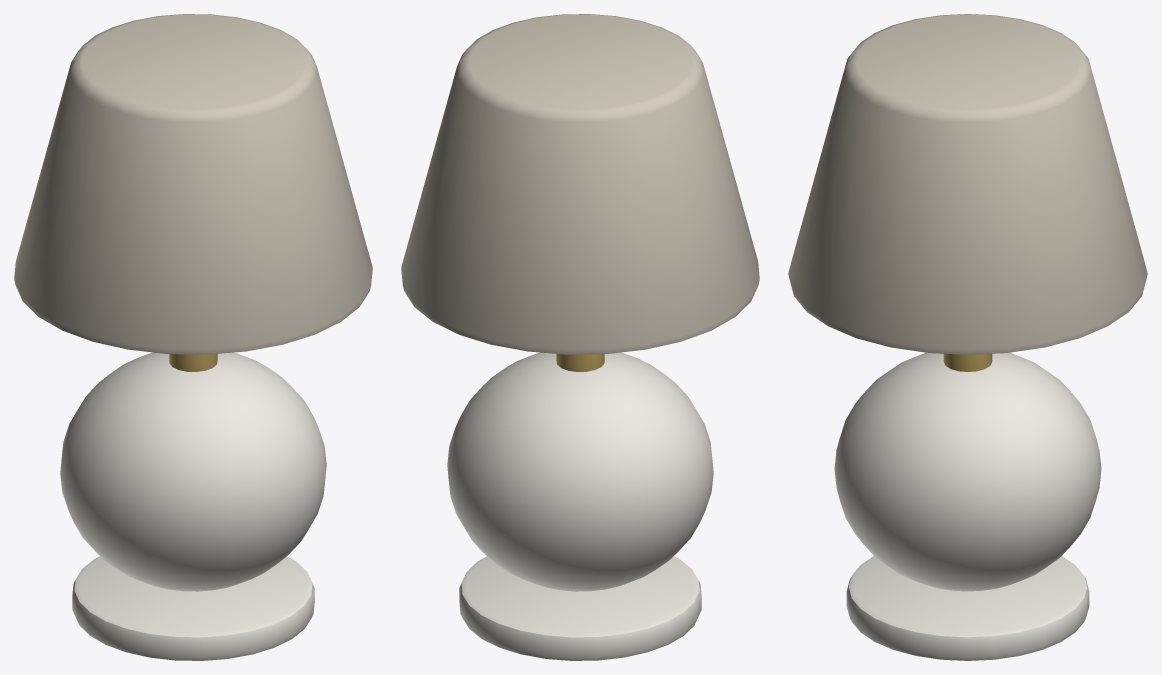
File: table_lamp.glb
The picture shows the model from 3 angles, left to right: view 1: azimuth 30°, elevation 25°; view 2: azimuth 150°, elevation 25°; view 3: azimuth 270°, elevation 25°; orthographic projection.
Visible parts, largest first — view 1: shade, belly, base, neck; view 2: shade, belly, base, neck; view 3: shade, belly, base, neck.
Boxes of the visible parts, left/top/right/bottom form: shade: left=14, top=14, right=372, bottom=354; belly: left=60, top=352, right=326, bottom=591; base: left=72, top=556, right=314, bottom=660; neck: left=169, top=354, right=217, bottom=371; shade: left=401, top=14, right=759, bottom=354; belly: left=447, top=352, right=713, bottom=591; base: left=459, top=556, right=701, bottom=660; neck: left=556, top=354, right=604, bottom=371; shade: left=788, top=14, right=1147, bottom=354; belly: left=834, top=352, right=1101, bottom=591; base: left=846, top=556, right=1089, bottom=660; neck: left=943, top=353, right=992, bottom=371.
Size of the model in its own units: 0.2961 by 0.5005 by 0.2961.
